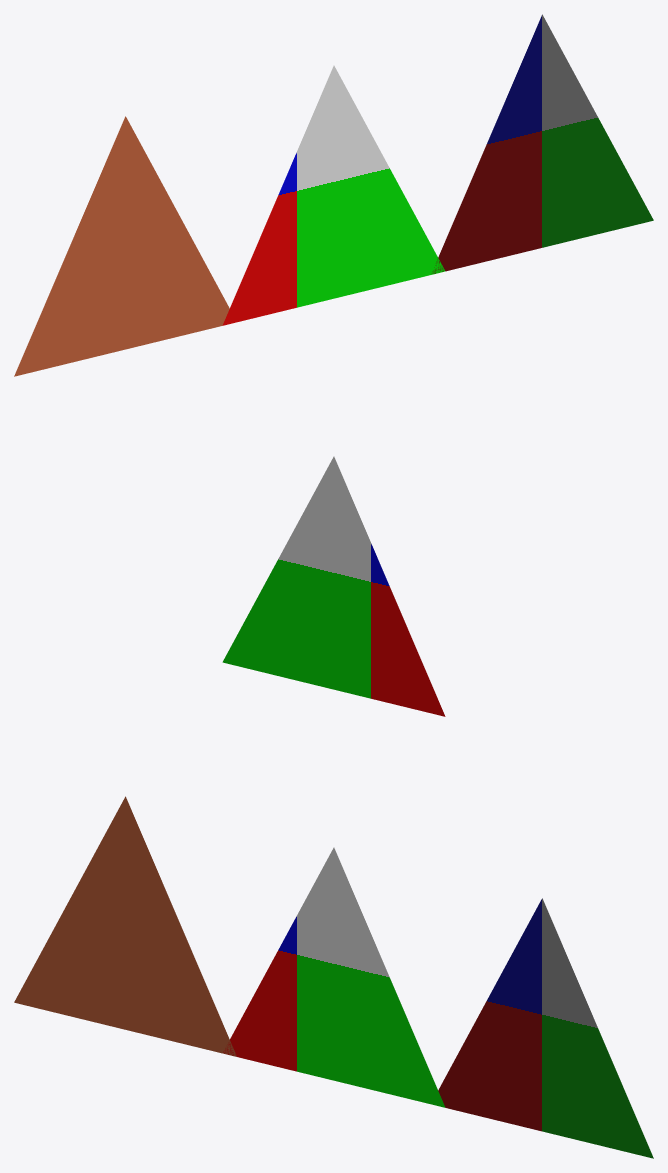
The model's file is material_gpu_lab.gltf.
The picture shows the model from 3 angles, top to bottom: view 1: azimuth 30°, elevation 25°; view 2: azimuth 150°, elevation 25°; view 3: azimuth 330°, elevation 25°; orthographic projection.
Size of the model in its own units: 4.3 by 1.5 by 0.
3 materials, 2 textured.
